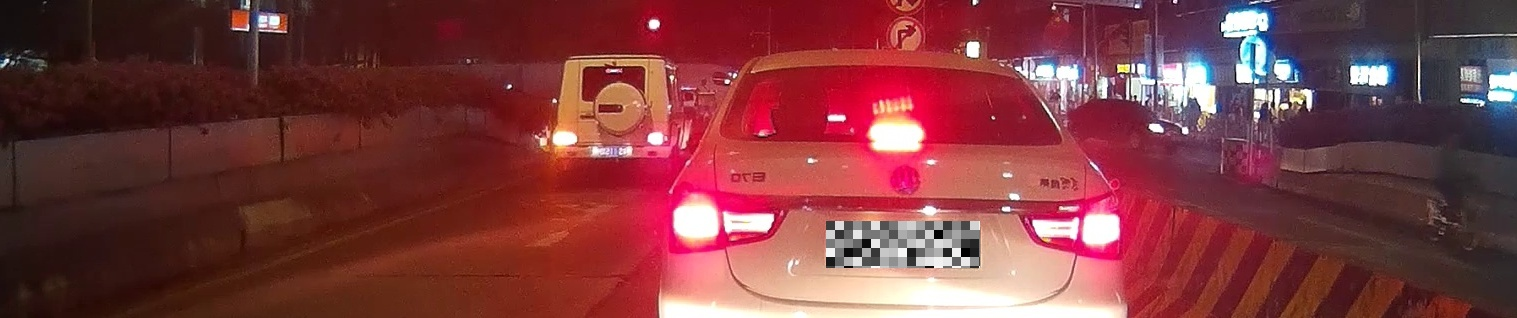L_light: (669, 186, 789, 254)
R_light: (1017, 192, 1125, 260)
T_light: (869, 127, 923, 143)
night-no: (658, 49, 1129, 318)
plate_1: (826, 221, 980, 268)
